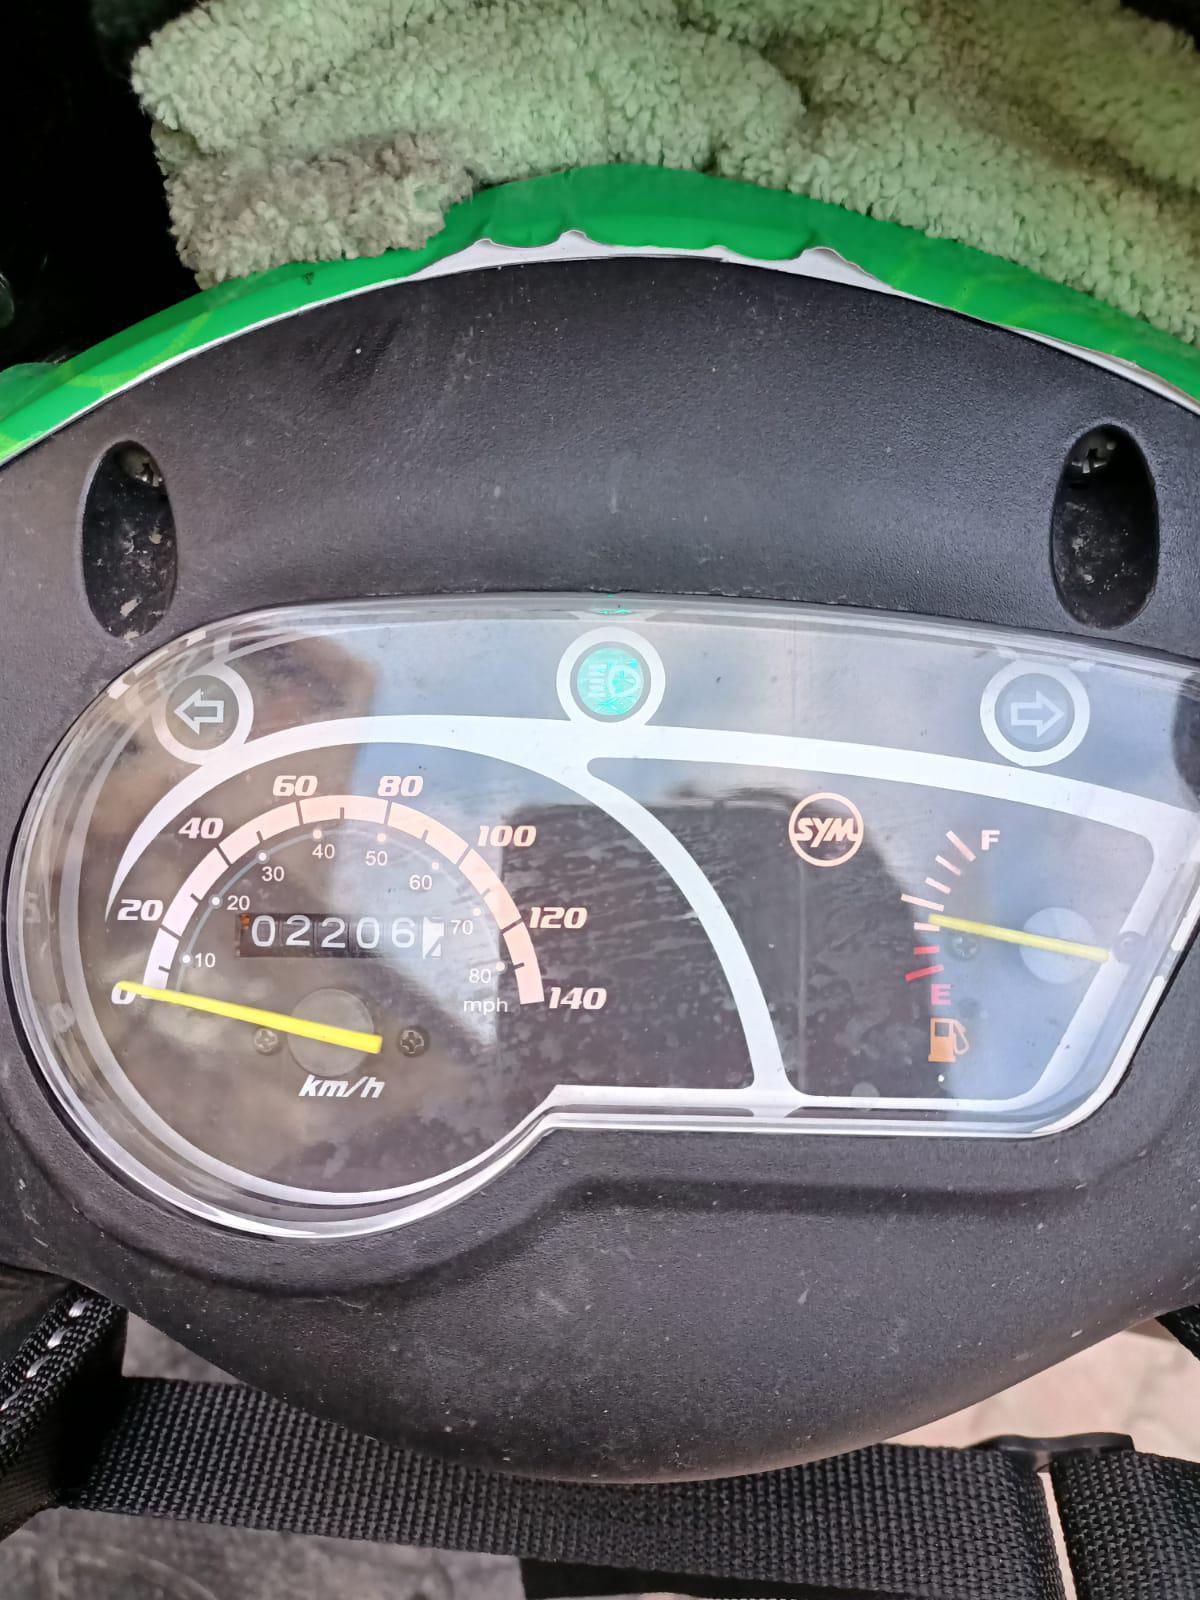0: (353, 915, 381, 950), (250, 912, 276, 947)
2: (318, 915, 347, 950), (284, 912, 313, 947)
4: (422, 932, 445, 963)
6: (389, 915, 416, 949)
odometer: (229, 910, 447, 964)
